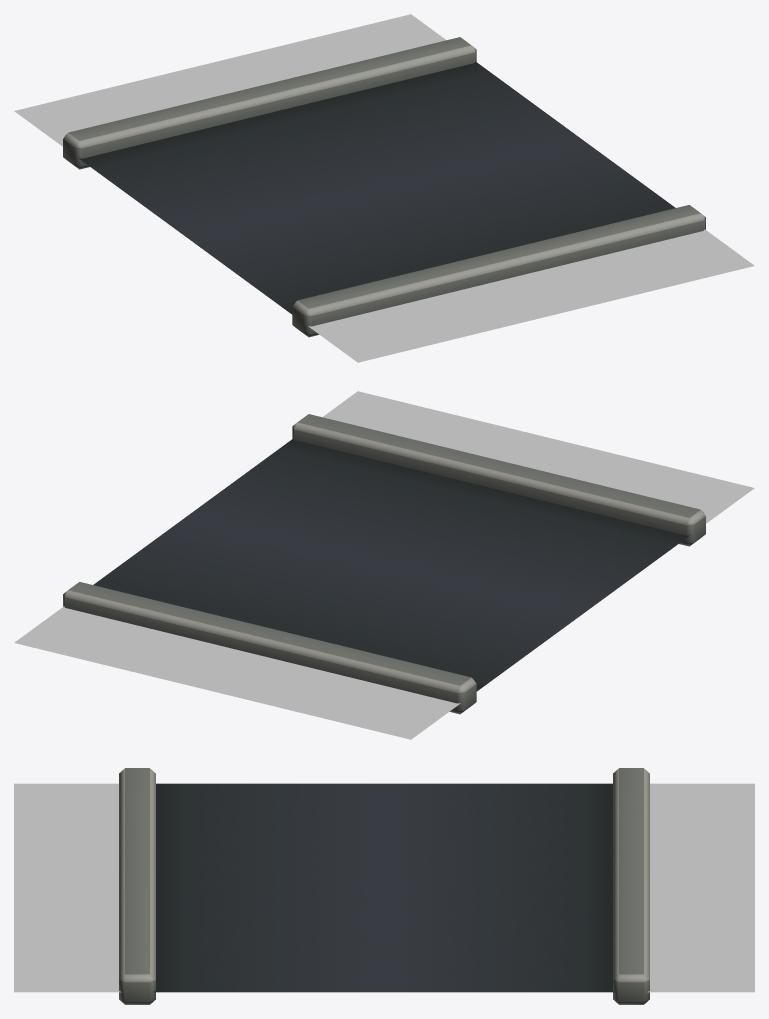
File: lane_section_x4.fbx
The picture shows the model from 3 angles, top to bottom: view 1: azimuth 30°, elevation 25°; view 2: azimuth 150°, elevation 25°; view 3: azimuth 270°, elevation 25°; orthographic projection. The views are drawn at different scales.
Visible parts, largest first — view 1: lane_section_x4, lane_section_x4_sidewalk; view 2: lane_section_x4, lane_section_x4_sidewalk; view 3: lane_section_x4, lane_section_x4_sidewalk.
Boxes of the visible parts, x1=… form: lane_section_x4: x1=63, y1=37, x2=705, y2=337; lane_section_x4_sidewalk: x1=14, y1=14, x2=754, y2=362; lane_section_x4: x1=63, y1=414, x2=705, y2=714; lane_section_x4_sidewalk: x1=14, y1=391, x2=754, y2=739; lane_section_x4: x1=119, y1=768, x2=649, y2=1004; lane_section_x4_sidewalk: x1=14, y1=783, x2=754, y2=992.
Bounding box in the file's own units: 810 × 55 × 1200.
